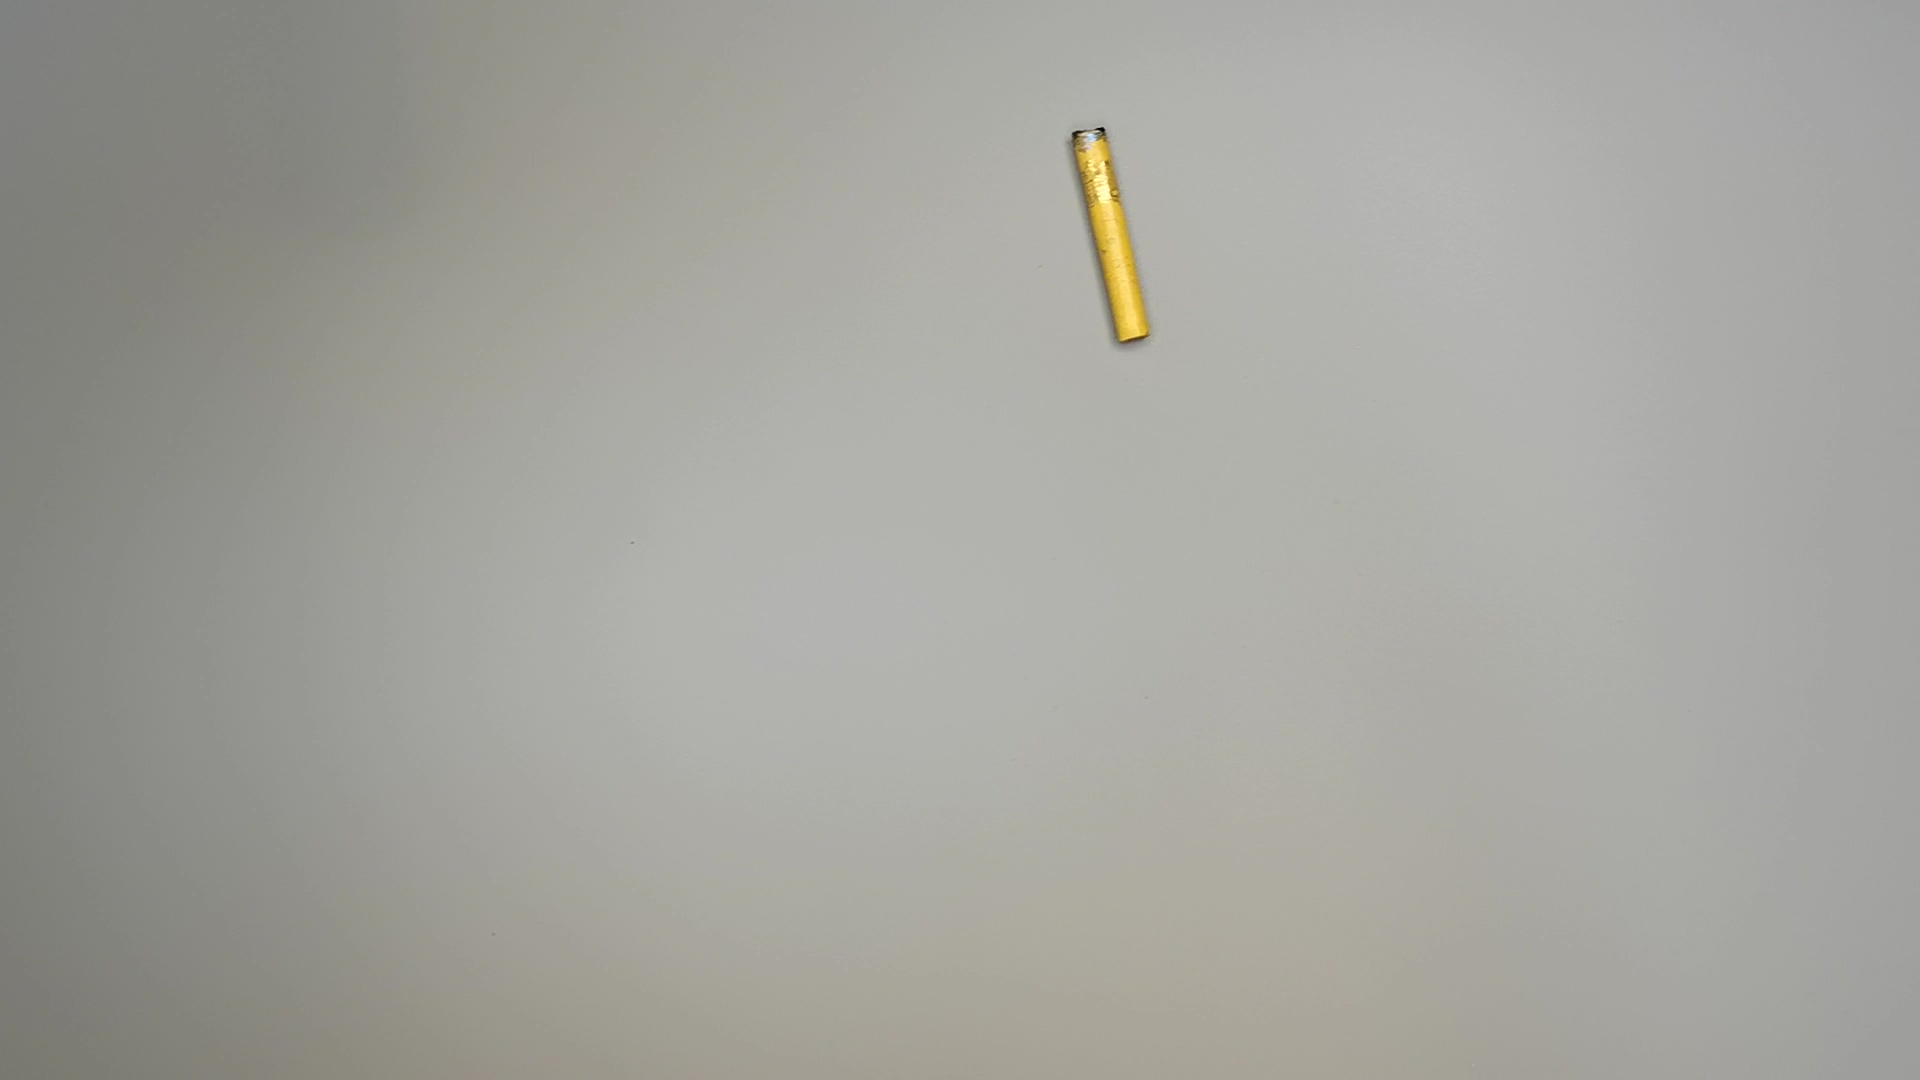cigarette: (1065, 124, 1162, 343)
